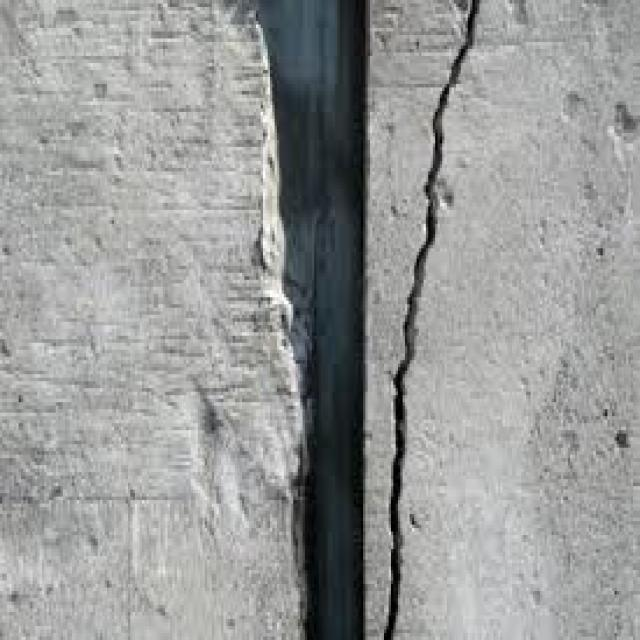Crack: (380, 0, 480, 637)
